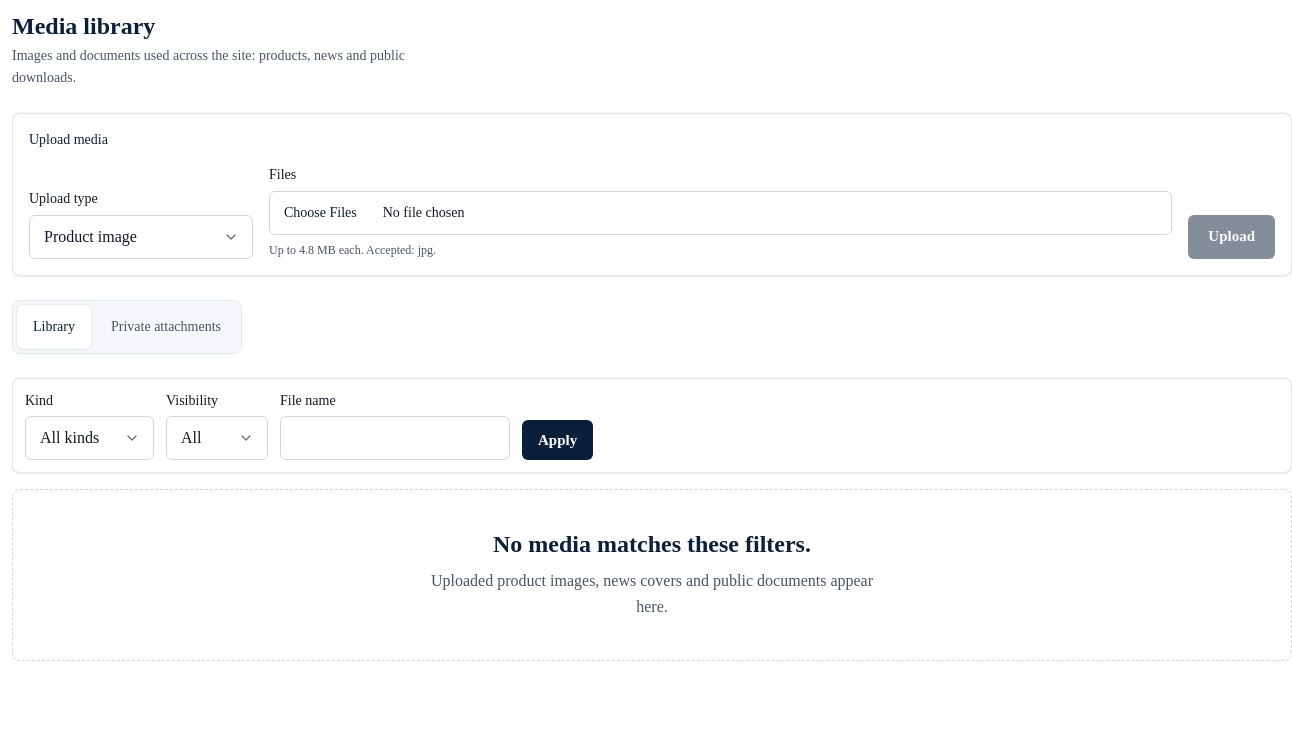
empty states › says honestly that no private attachments exist, once that tab is open
The width and height of the screenshot is (1292, 732).
What coordinates should you click on to do the following:
click the tab "Private attachments"
I would click on:
 (166, 327)
Its box is [95,305,237,349].
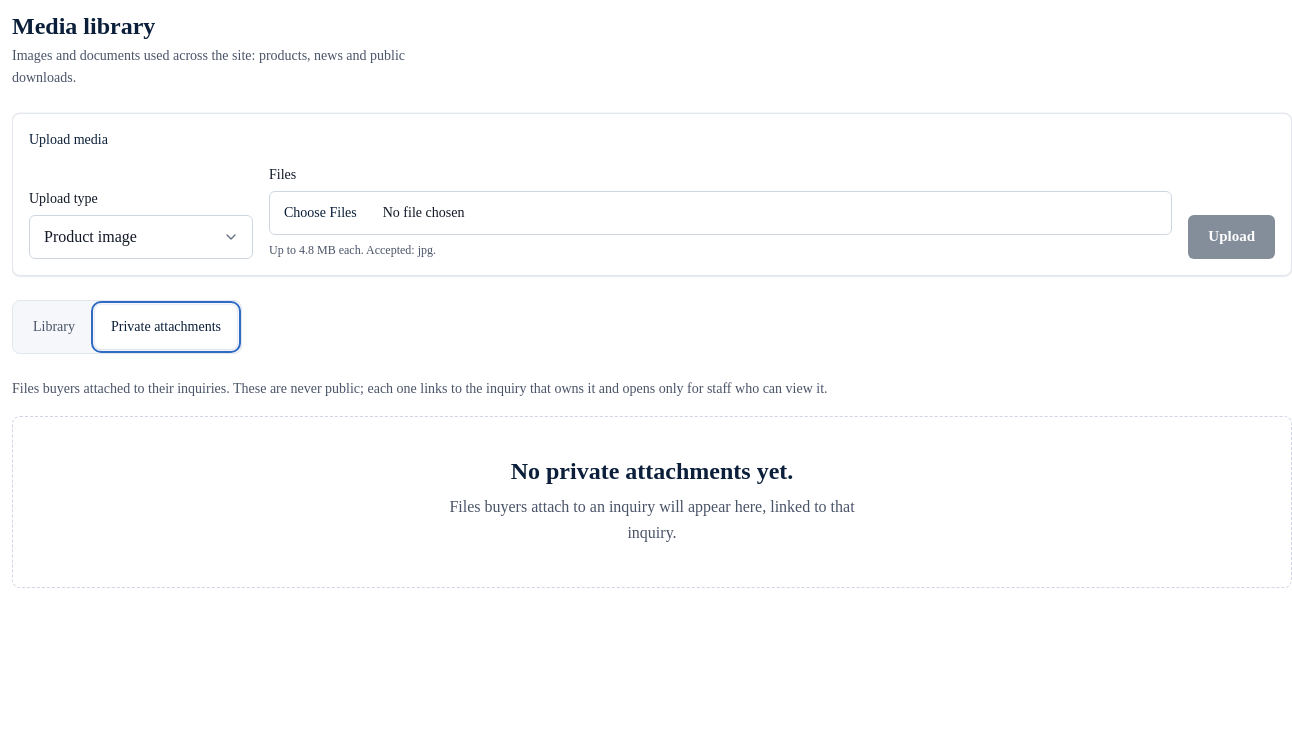
Expected: the heading "No private attachments yet." is shown, [511,458,793,484]
